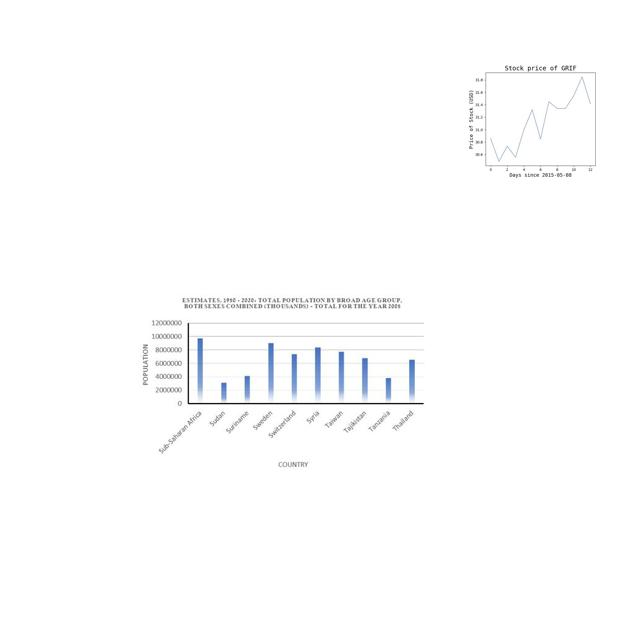Graph: (139, 294, 429, 468), (458, 58, 619, 179)
